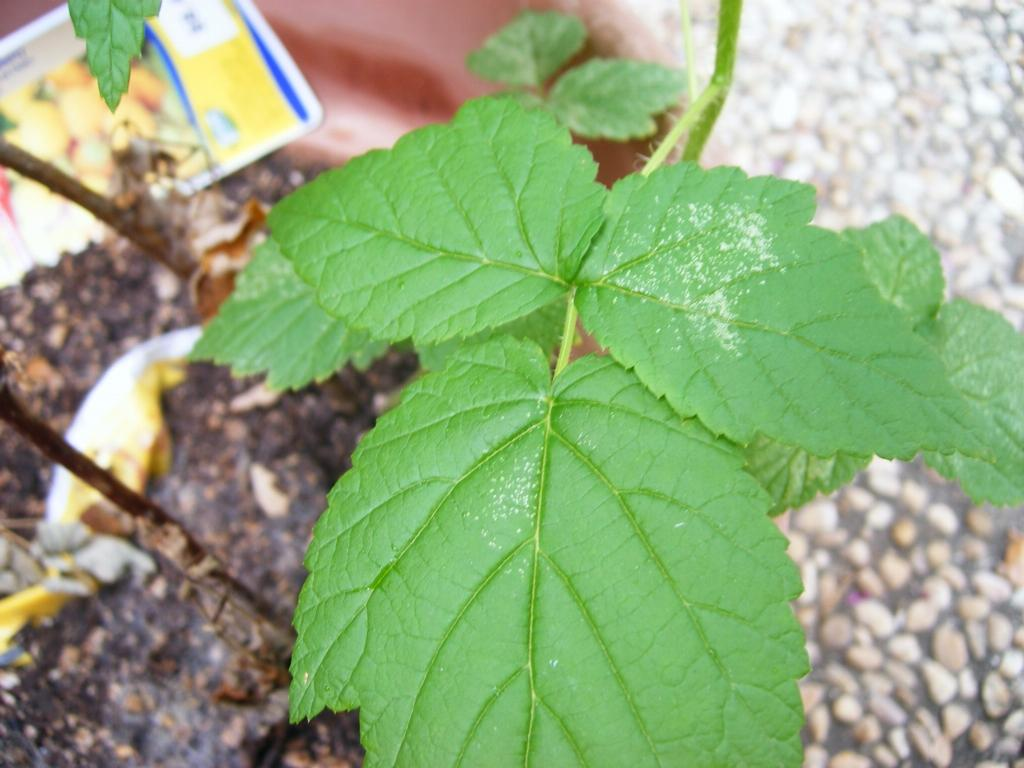Raspberry leaf: (285, 326, 814, 768), (573, 162, 1024, 470), (254, 83, 599, 346)
